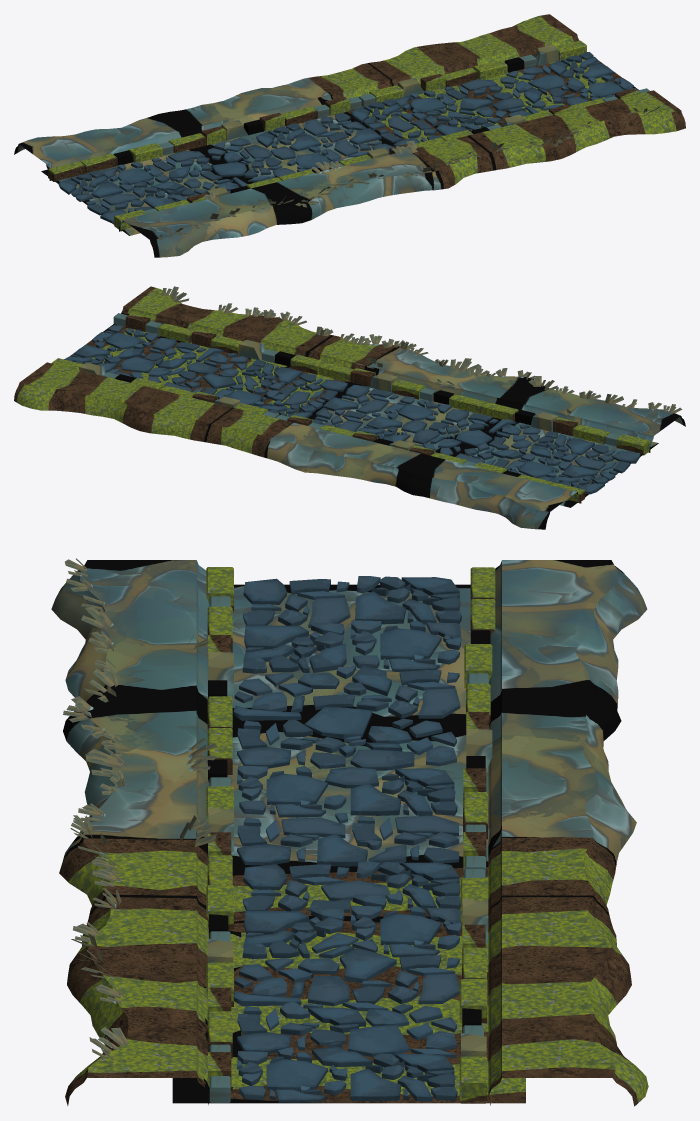
Rendered from Grnd_FourPath.fbx.
3 renders of one model, top to bottom at view 1: azimuth 30°, elevation 25°; view 2: azimuth 150°, elevation 25°; view 3: azimuth 270°, elevation 25°, orthographic. The views are drawn at different scales.
Parts seen in each view (by area): view 1: grnd_Path, Floor_Slab; view 2: grnd_Path, Floor_Slab; view 3: grnd_Path, Floor_Slab.
Boxes of the visible parts, x1,y1,x2,y2 form: grnd_Path: [14, 14, 685, 257]; Floor_Slab: [58, 52, 637, 222]; grnd_Path: [14, 286, 685, 529]; Floor_Slab: [64, 325, 640, 494]; grnd_Path: [51, 558, 648, 1106]; Floor_Slab: [233, 576, 461, 1102].
Bounding box in the file's own units: 7.09 × 0.2852 × 3.43.
Materials: 2 (2 with a texture image).
